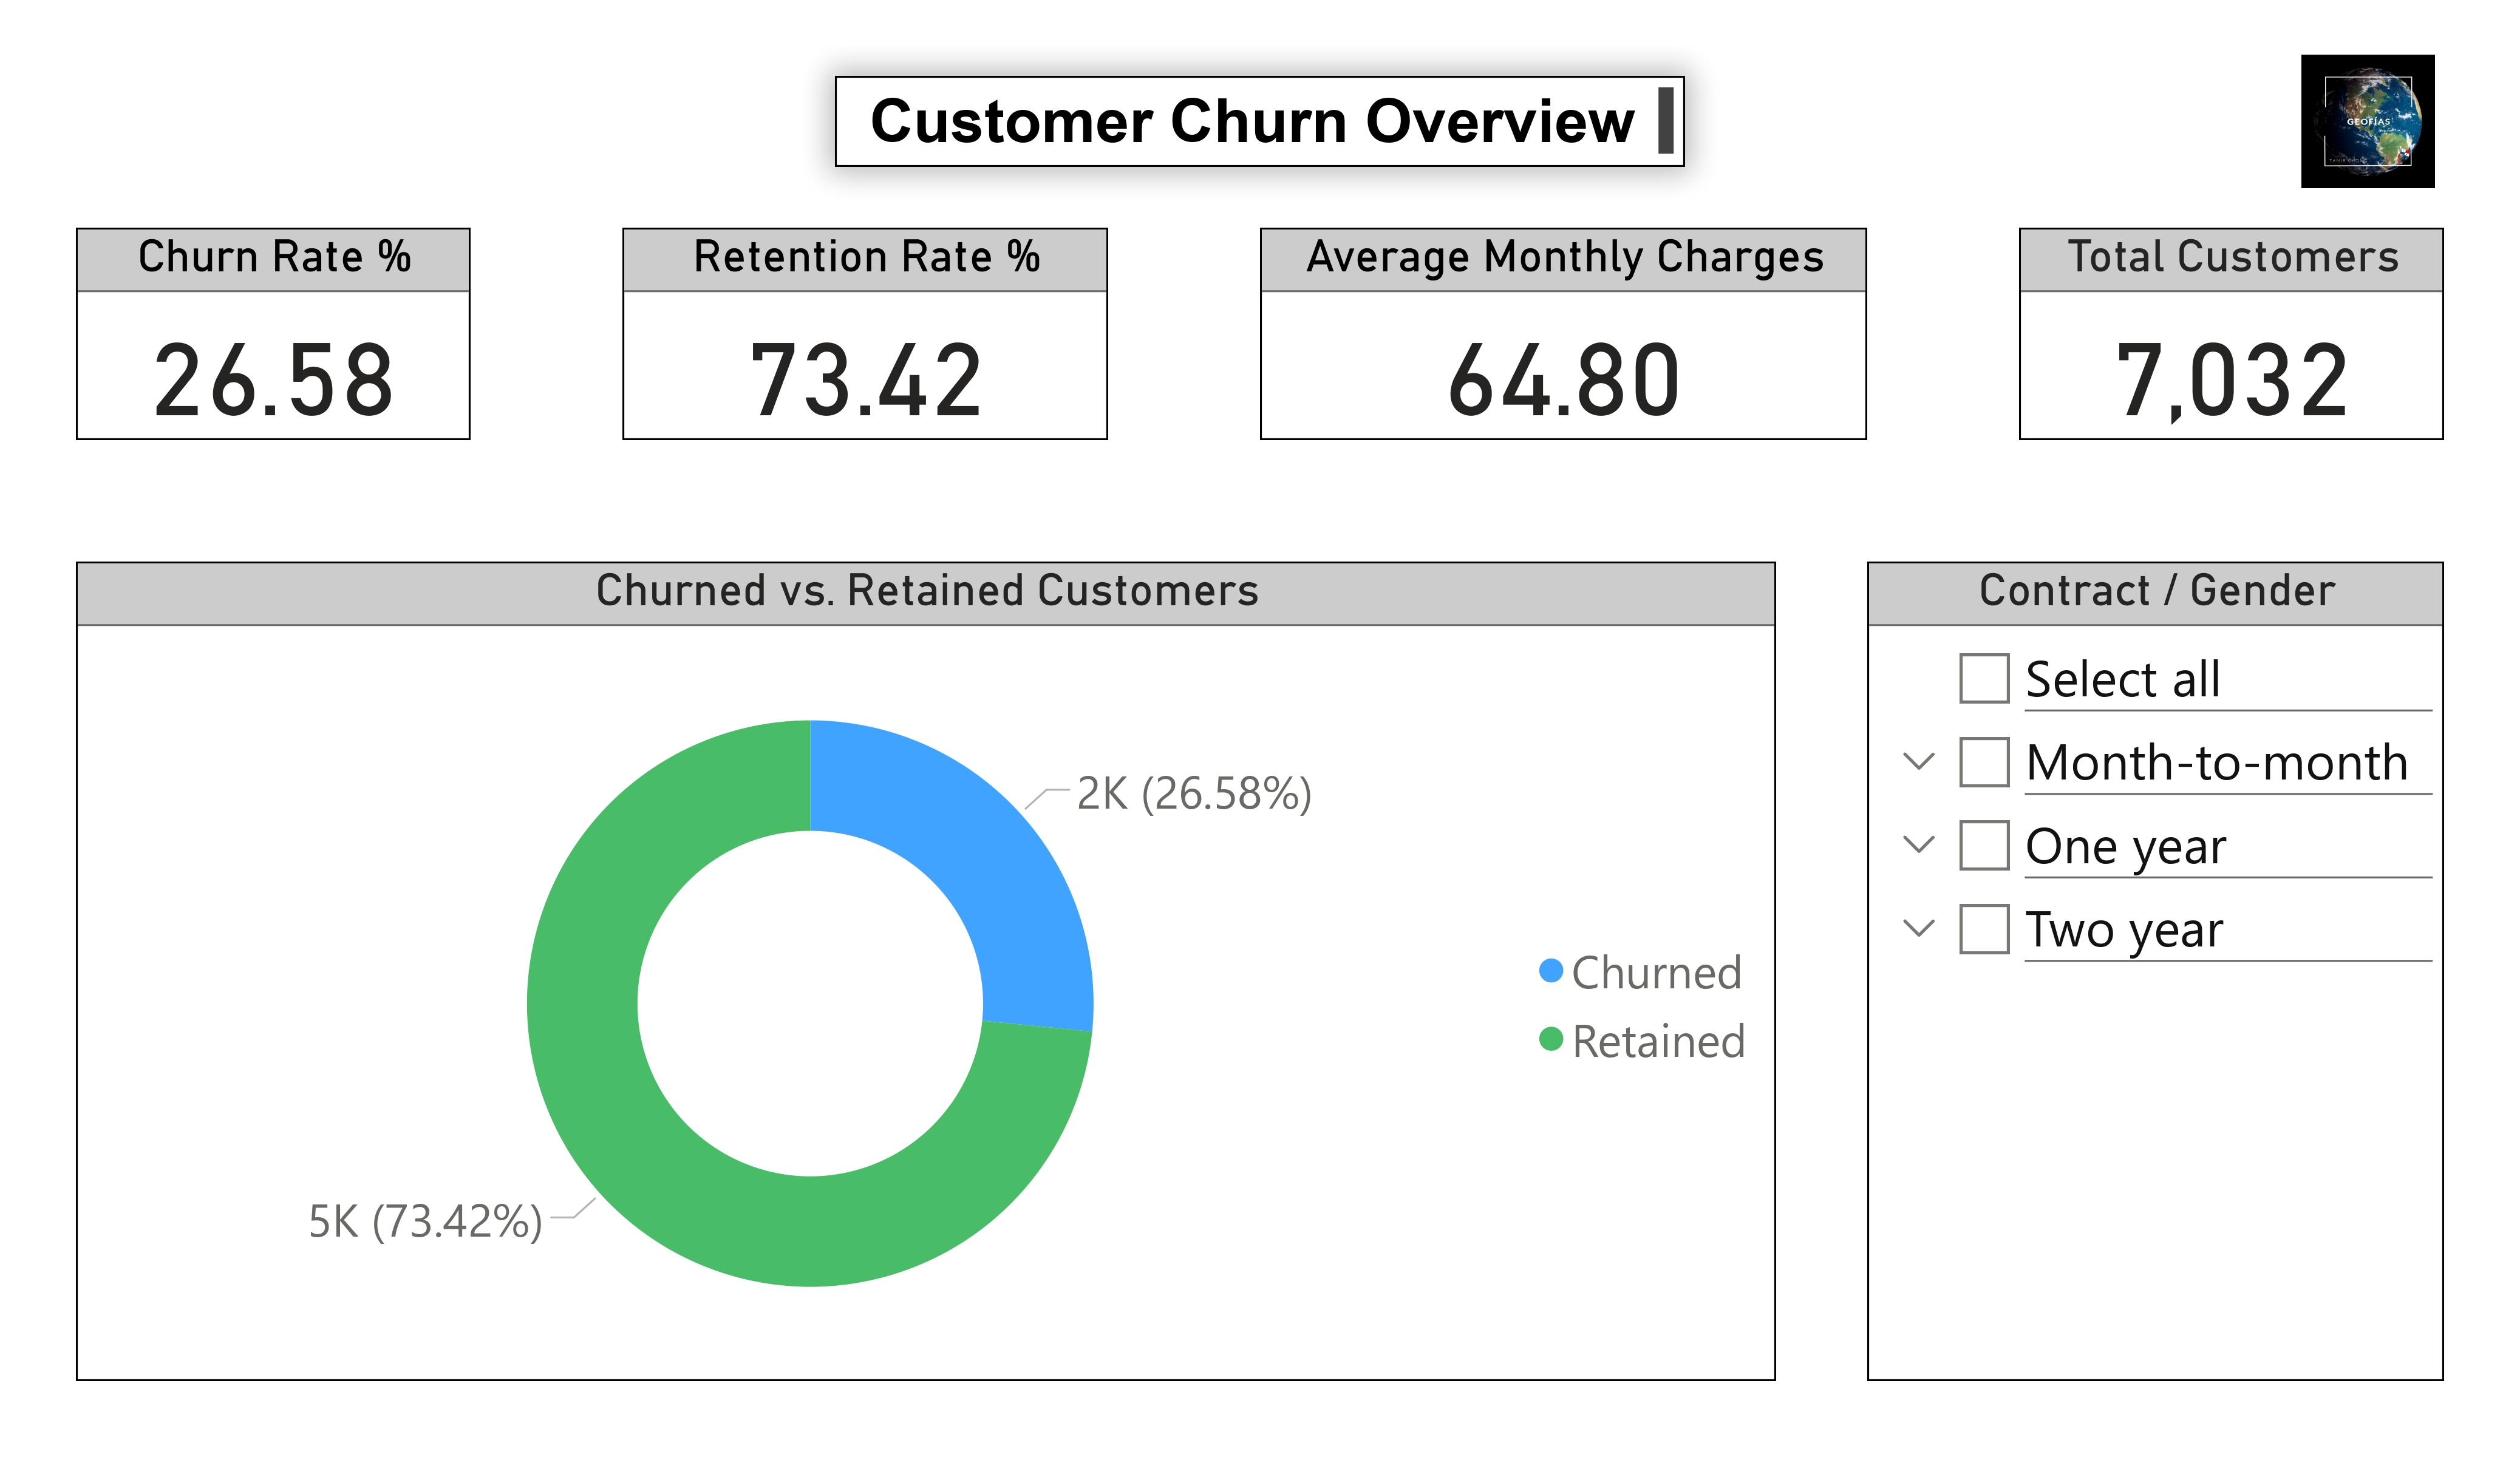

Layout of this report page (visuals, bound fields, positions):
{"tool":"powerbi","page":{"name":"Overview","canvas":[1280,720],"ordinal":0},"visuals":[{"type":"textbox","box":[416,16,448,48],"z":0},{"type":"card","title":"Total Customers","fields":{"Values":["churn_customers.Total_Customers"]},"box":[1040,96,224,112],"z":1000},{"type":"card","title":"Churn Rate %","fields":{"Values":["churn_customers.Churn_Rate"]},"box":[16,96,208,112],"z":2000},{"type":"card","title":"Retention Rate %","fields":{"Values":["churn_customers.Retention_Rate"]},"box":[304,96,256,112],"z":3000},{"type":"card","title":"Average Monthly Charges","fields":{"Values":["churn_customers.Avg_MonthlyCharges"]},"box":[640,96,320,112],"z":4000},{"type":"donutChart","title":"Churned vs. Retained Customers","fields":{"Y":["churn_customers.ChurnedCustomers","churn_customers.Retained_Customers"]},"box":[16,272,896,432],"z":5000},{"type":"slicer","title":"Contract / Gender","fields":{"Values":["churn_customers.Contract","churn_customers.gender"]},"box":[960,272,304,432],"z":6000},{"type":"image","box":[1184,0,80,80],"z":7000}]}

Visuals, with their boxes on the page's 1280x720 design canvas (x1, y1, x2, y2). These are canvas units, not pixel positions in the 2520x1457 screenshot, which may show the page scaled, cropped or inside an application window:
textbox: bbox=(416, 16, 864, 64)
"Total Customers" card: bbox=(1040, 96, 1264, 208)
"Churn Rate %" card: bbox=(16, 96, 224, 208)
"Retention Rate %" card: bbox=(304, 96, 560, 208)
"Average Monthly Charges" card: bbox=(640, 96, 960, 208)
"Churned vs. Retained Customers" donutChart: bbox=(16, 272, 912, 704)
"Contract / Gender" slicer: bbox=(960, 272, 1264, 704)
image: bbox=(1184, 0, 1264, 80)
